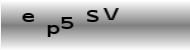5: (60, 15, 74, 30)
S: (85, 9, 100, 23)
V: (102, 6, 119, 21)
e: (20, 12, 35, 23)
p: (46, 24, 60, 38)
